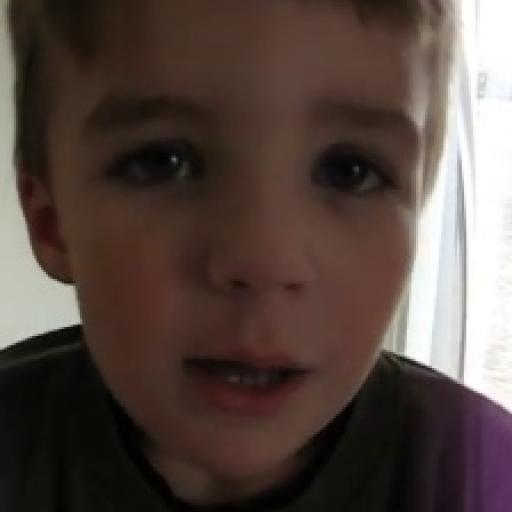Autism: (50, 20, 438, 442)
